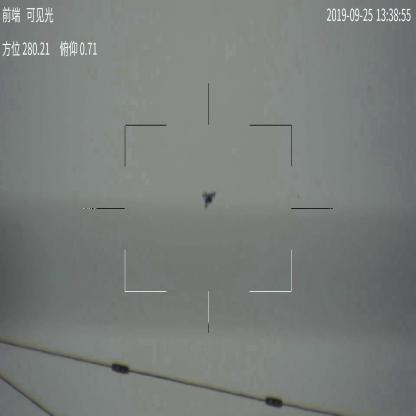uav: (202, 188, 217, 212)
